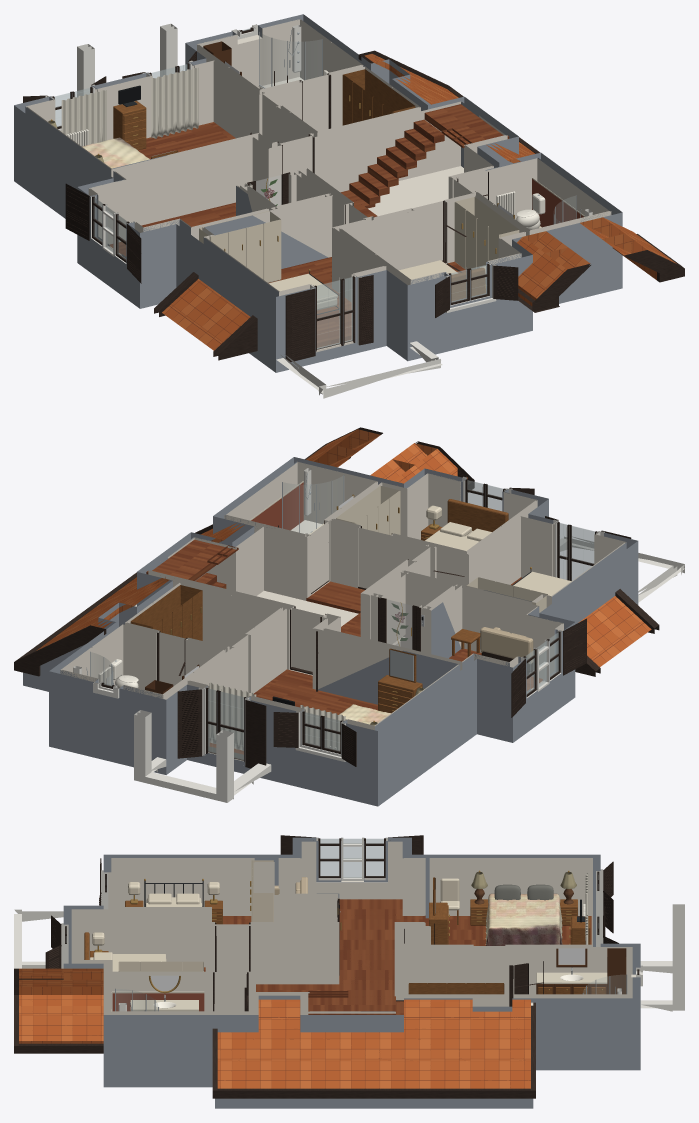
Rendered from floor-2.glb.
3 views of the same model, one above another, from view 1: azimuth 30°, elevation 25°; view 2: azimuth 150°, elevation 25°; view 3: azimuth 270°, elevation 25° (orthographic). The views are drawn at different scales.
Visible parts, largest first — view 1: fixed | interior, fixed | stucco, fixed | wood_dark, fixed | wood_floor, fixed | roof, furniture | linen, fixed | glass, fixed | white_trim, fixed | curtain_sheer, furniture | wood_honey, fixed | ceramic, furniture | Master quilt — photo projection (+1 smaller); view 2: fixed | interior, fixed | stucco, fixed | wood_dark, fixed | glass, fixed | roof, fixed | white_trim, fixed | wood_floor, furniture | wood_honey, furniture | linen, fixed | curtain_sheer, furniture | fabric, fixed | Bathroom lower terracotta (+4 smaller); view 3: fixed | interior, fixed | roof, fixed | stucco, fixed | wood_dark, fixed | wood_floor, fixed | white_trim, furniture | linen, furniture | wood_honey, furniture | Master quilt — photo projection, fixed | glass, fixed | Bathroom cream marble, fixed | Bathroom dark walnut (+4 smaller).
Boxes of the visible parts, x1,y1,x2,y2 form: fixed | interior: [26, 19, 611, 352]; fixed | stucco: [14, 14, 622, 372]; fixed | wood_dark: [23, 27, 684, 361]; fixed | wood_floor: [110, 104, 509, 347]; fixed | roof: [162, 54, 676, 350]; furniture | linen: [199, 197, 519, 310]; fixed | glass: [54, 28, 575, 349]; fixed | white_trim: [45, 23, 592, 398]; fixed | curtain_sheer: [61, 68, 198, 144]; furniture | wood_honey: [113, 69, 485, 301]; fixed | ceramic: [66, 70, 545, 230]; furniture | Master quilt — photo projection: [82, 137, 149, 168]; fixed | interior: [60, 461, 626, 761]; fixed | stucco: [23, 457, 638, 806]; fixed | wood_dark: [14, 427, 659, 768]; fixed | glass: [91, 476, 594, 760]; fixed | roof: [36, 429, 651, 666]; fixed | white_trim: [73, 468, 684, 802]; fixed | wood_floor: [146, 539, 542, 754]; furniture | wood_honey: [130, 499, 508, 713]; furniture | linen: [336, 485, 571, 612]; fixed | curtain_sheer: [209, 682, 345, 750]; furniture | fabric: [480, 627, 533, 663]; fixed | Bathroom lower terracotta: [251, 482, 303, 530]; fixed | interior: [71, 841, 635, 1014]; fixed | roof: [19, 968, 530, 1088]; fixed | stucco: [63, 837, 640, 1108]; fixed | wood_dark: [14, 835, 639, 1098]; fixed | wood_floor: [204, 899, 591, 1014]; fixed | white_trim: [14, 837, 684, 1011]; furniture | linen: [89, 860, 459, 971]; furniture | wood_honey: [84, 877, 590, 994]; furniture | Master quilt — photo projection: [485, 893, 562, 945]; fixed | glass: [66, 839, 625, 1010]; fixed | Bathroom cream marble: [111, 972, 607, 1011]; fixed | Bathroom dark walnut: [536, 948, 626, 994].
Bounding box in the file's own units: 12.19 × 2.08 × 16.87.
34 materials, 34 textured.
